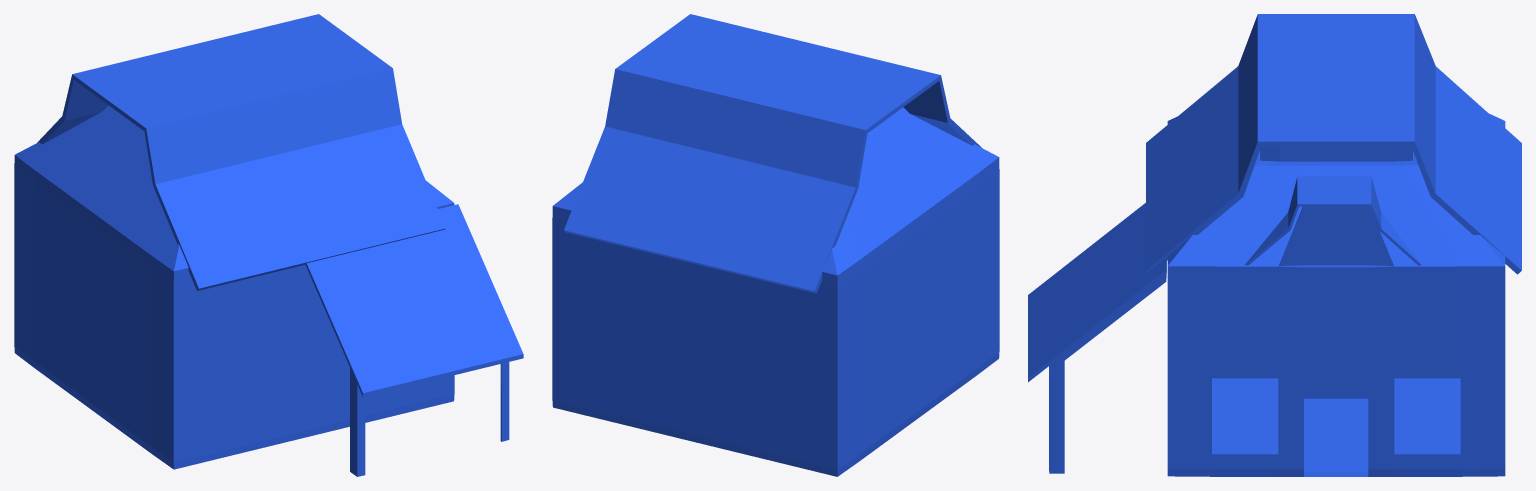
The model's file is Caa Humana.FBX.
3 renders of one model, left to right at view 1: azimuth 30°, elevation 25°; view 2: azimuth 150°, elevation 25°; view 3: azimuth 270°, elevation 25°, orthographic. The views are drawn at different scales.
Visible parts, largest first — view 1: Casa Humana; view 2: Casa Humana; view 3: Casa Humana.
Part boxes in pixels (<box>): Casa Humana: <box>14,14,523,476</box>; Casa Humana: <box>552,14,999,476</box>; Casa Humana: <box>1028,14,1521,476</box>.
Bounding box in the file's own units: 225 × 232 × 319.
